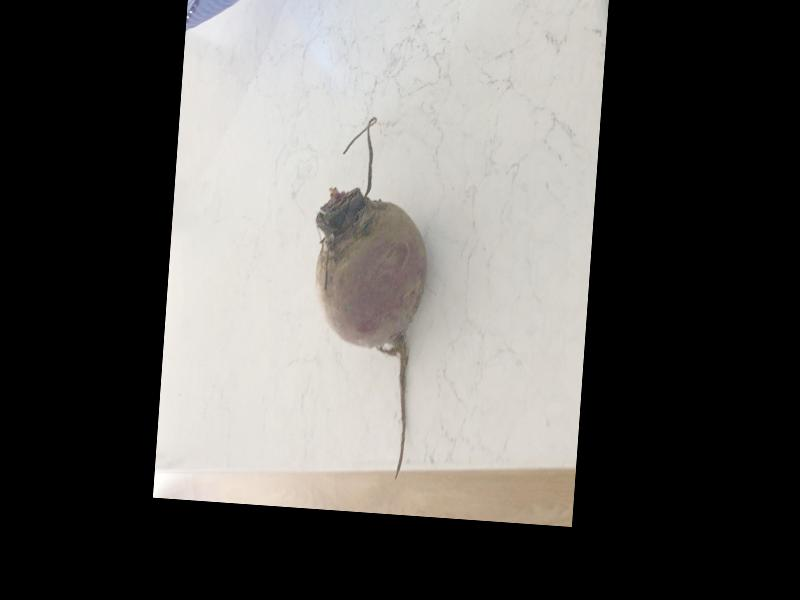Beet: (300, 114, 436, 484)
